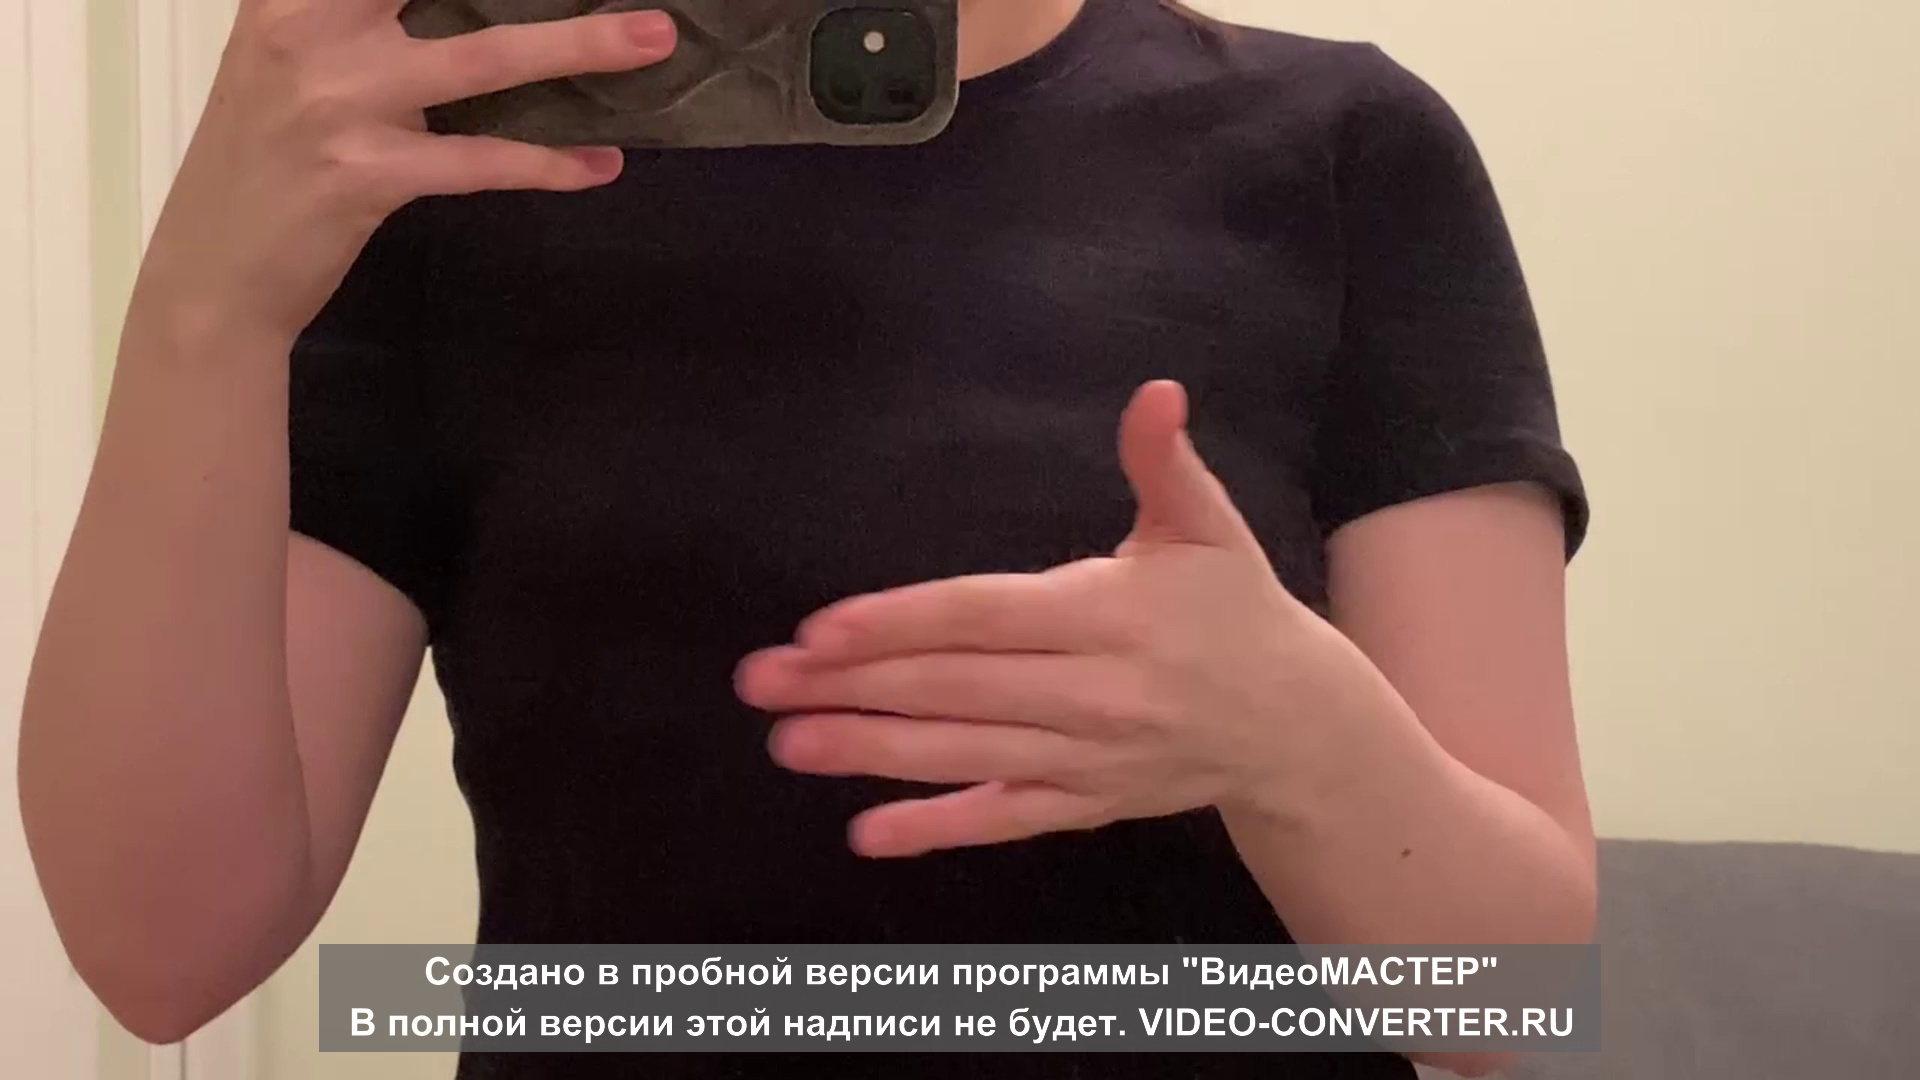Кисть: (733, 378, 1282, 861)
